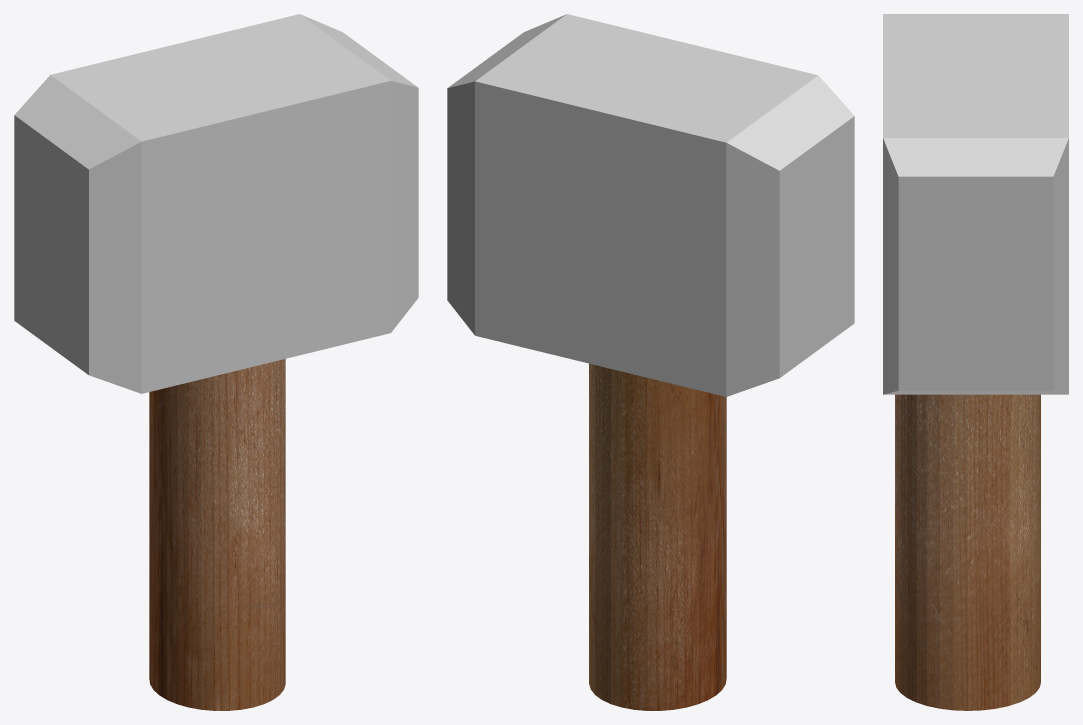
The model's file is hammer.gltf.
The picture shows the model from 3 angles, left to right: view 1: azimuth 30°, elevation 25°; view 2: azimuth 150°, elevation 25°; view 3: azimuth 270°, elevation 25°; orthographic projection.
Parts seen in each view (by area): view 1: Cube, Cylinder; view 2: Cube, Cylinder; view 3: Cube, Cylinder.
Part boxes in pixels (<box>): Cube: <box>14,14,418,393</box>; Cylinder: <box>149,359,285,710</box>; Cube: <box>447,14,854,396</box>; Cylinder: <box>589,363,726,710</box>; Cube: <box>883,14,1068,394</box>; Cylinder: <box>895,394,1040,710</box>.
Size of the model in its own units: 4.16 by 7.24 by 2.
1 material, 1 textured.
